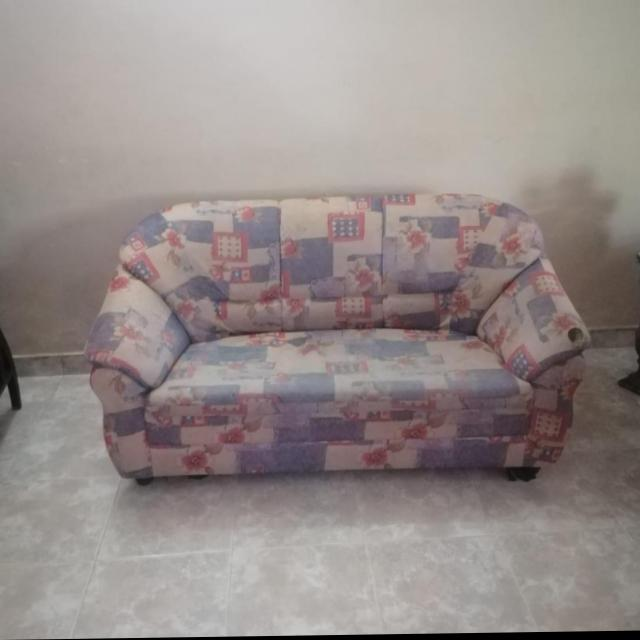Sofa: (87, 190, 591, 487)
